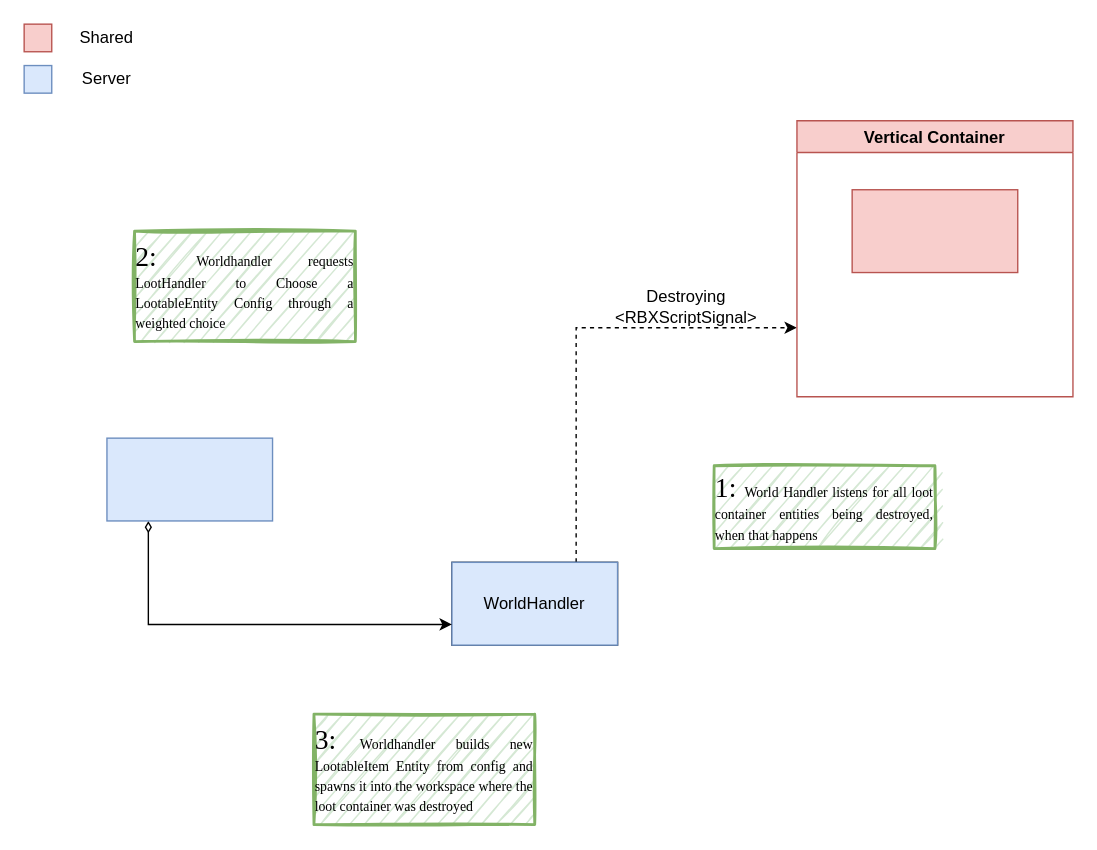
Some shapes in this 1097 by 850 pixel diagram are drawn without their labels. Here are the shapes that lost their labels. From the top down, the centre of each, then its label:
At (x=934, y=230): "FrostDragon <LootContainerEntity> <DragonEntity>".
At (x=189, y=479): "LootHandler".
